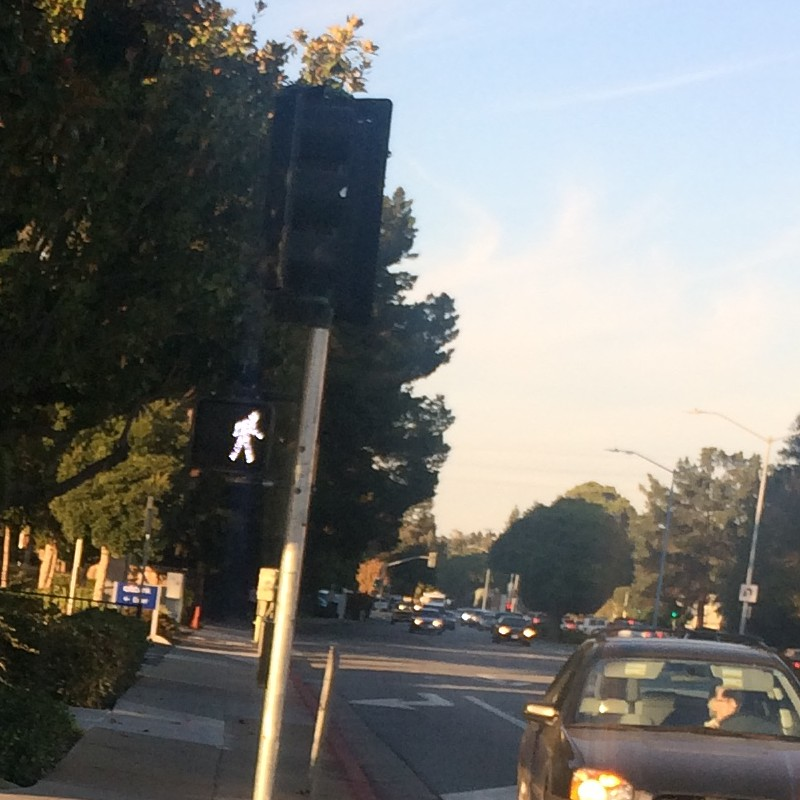go: (184, 396, 278, 474)
